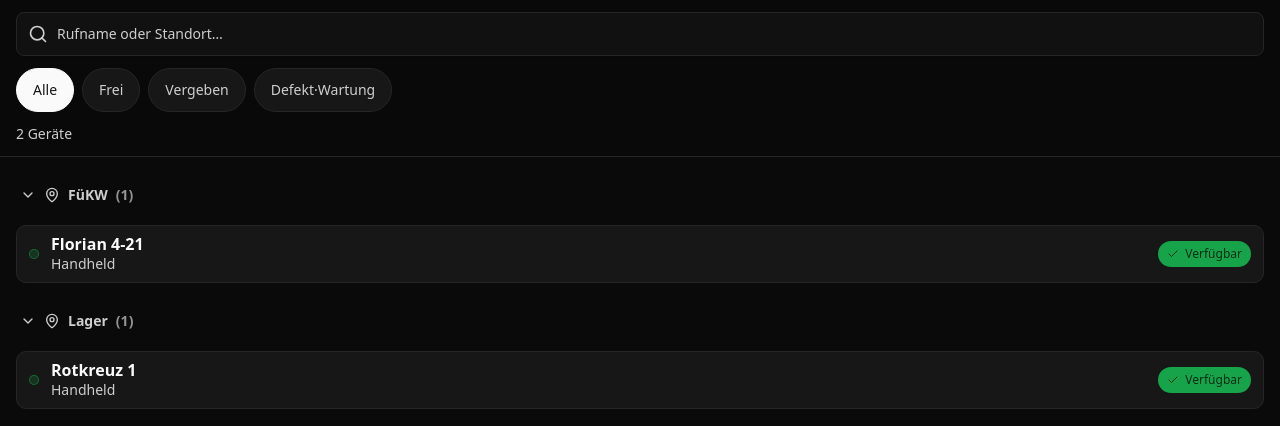
Test: DeviceSelector › Filtering › filtert die auswählbaren Geräte per Suche
The width and height of the screenshot is (1280, 426).
Type "florian" into the search field at (640, 34), box [16,12,1264,56]
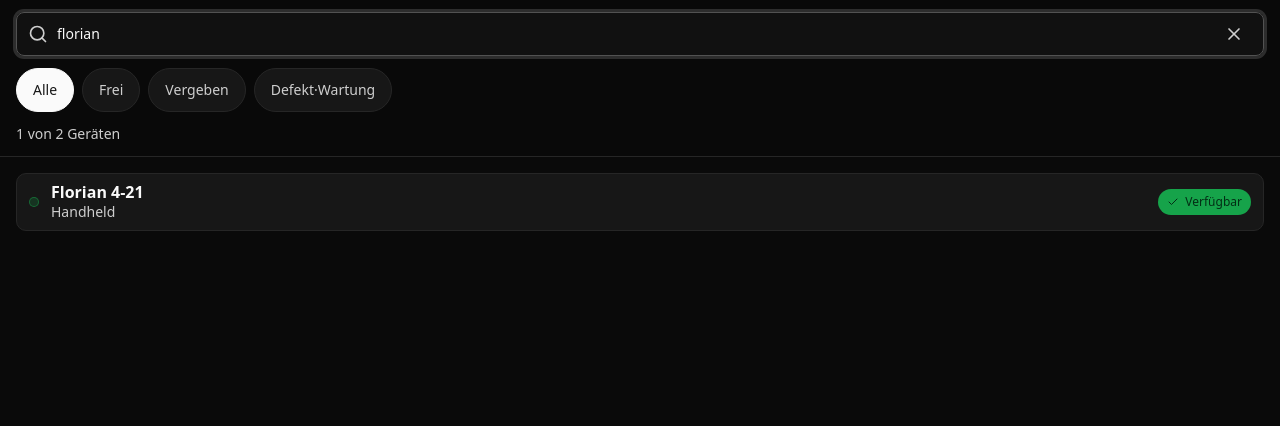
Expected: the text "Florian 4-21" is shown, [51,181,144,203]
Result: the option "Rotkreuz 1" is gone
